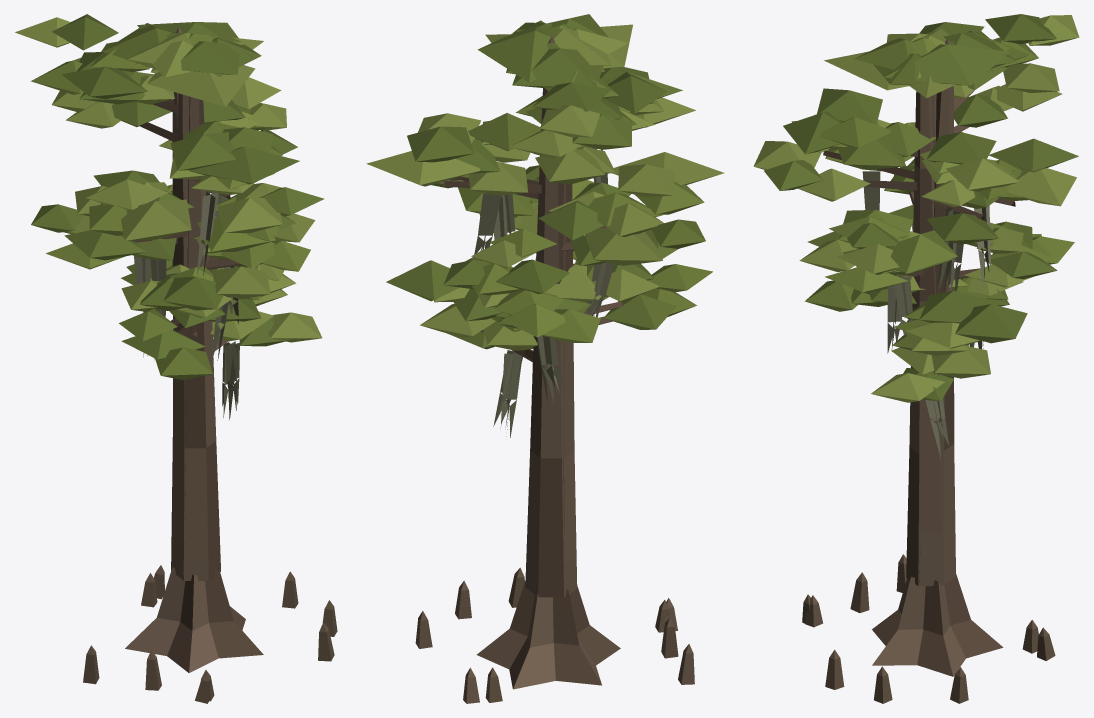
The model's file is cypress.glb.
The picture shows the model from 3 angles, left to right: view 1: azimuth 30°, elevation 25°; view 2: azimuth 150°, elevation 25°; view 3: azimuth 270°, elevation 25°; orthographic projection. The views are drawn at different scales.
Parts seen in each view (by area): view 1: cypress_v2, cypress_v1, cypress_v0; view 2: cypress_v1, cypress_v0, cypress_v2; view 3: cypress_v1, cypress_v0, cypress_v2.
Boxes of the visible parts, box(x1,y1,x2,y2) form: cypress_v2: box(62, 33, 324, 701); cypress_v1: box(15, 14, 334, 690); cypress_v0: box(45, 32, 337, 703); cypress_v1: box(366, 20, 705, 689); cypress_v0: box(386, 14, 696, 702); cypress_v2: box(415, 24, 724, 703); cypress_v1: box(783, 14, 1079, 689); cypress_v0: box(753, 28, 1062, 703); cypress_v2: box(764, 22, 1074, 703).
Bounding box in the file's own units: 6.1 × 13.02 × 6.33.
